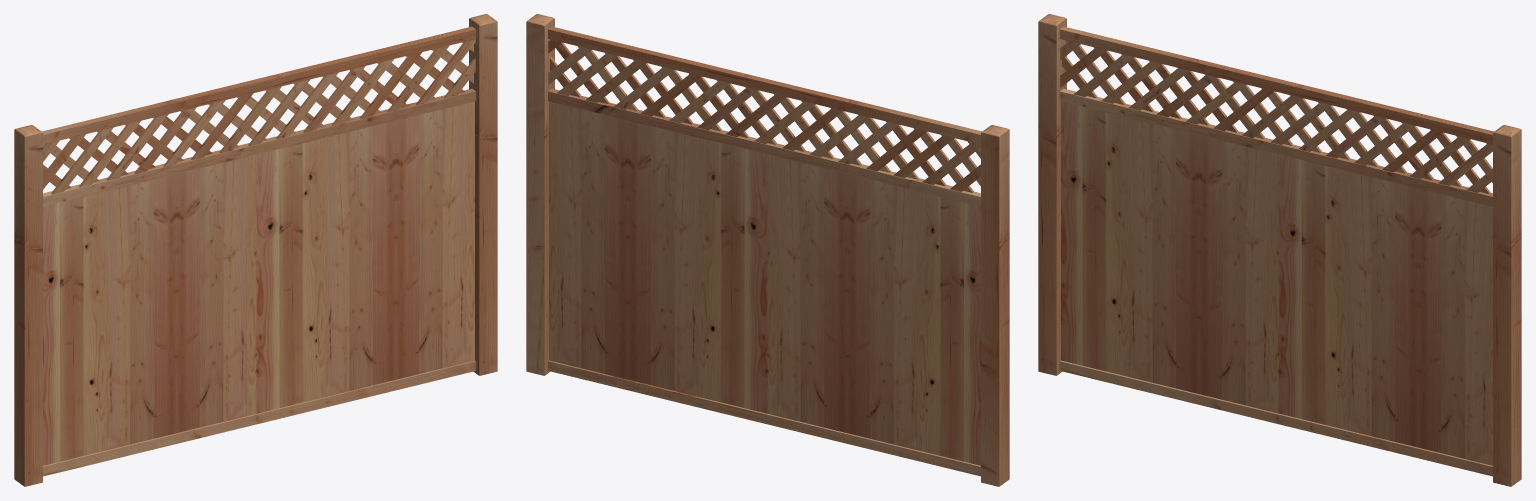
File: Douglas_Lattice_Fence_Updated_.fbx
The picture shows the model from 3 angles, left to right: view 1: azimuth 30°, elevation 25°; view 2: azimuth 150°, elevation 25°; view 3: azimuth 330°, elevation 25°; orthographic projection.
Visible parts, largest first — view 1: Lattices_02_Lattices_01, Pillar_1, Pillar_; view 2: Lattices_02_Lattices_01, Pillar_1, Pillar_; view 3: Lattices_02_Lattices_01, Pillar_, Pillar_1.
Part boxes in pixels (bbox=[...]): Lattices_02_Lattices_01: bbox=[42, 26, 476, 476]; Pillar_1: bbox=[14, 125, 42, 486]; Pillar_: bbox=[469, 14, 497, 375]; Lattices_02_Lattices_01: bbox=[548, 26, 981, 476]; Pillar_1: bbox=[981, 125, 1009, 486]; Pillar_: bbox=[526, 14, 554, 375]; Lattices_02_Lattices_01: bbox=[1059, 26, 1493, 476]; Pillar_: bbox=[1493, 125, 1521, 486]; Pillar_1: bbox=[1038, 14, 1066, 375].
Size of the model in its own units: 104 by 73.63 by 4.
Materials: 1 (1 with a texture image).
